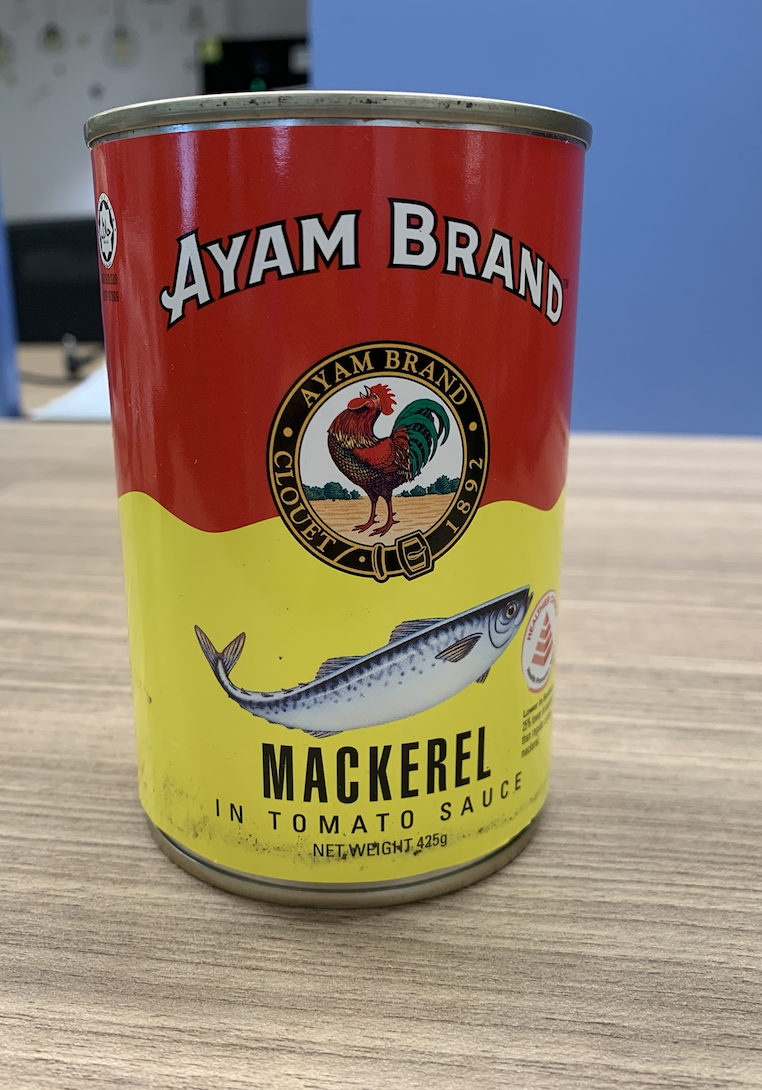sardines_400g-499g: (141, 159, 556, 863)
